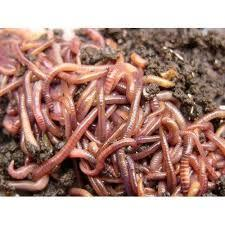Insects: (28, 107, 98, 183), (44, 63, 115, 107), (81, 137, 139, 176), (15, 86, 42, 154), (2, 157, 50, 194), (11, 40, 47, 81), (159, 119, 178, 194), (49, 65, 110, 86), (126, 74, 144, 137), (115, 148, 134, 199), (190, 108, 225, 131), (202, 128, 225, 161), (180, 135, 192, 193), (136, 115, 160, 138), (70, 181, 94, 203), (84, 175, 105, 199), (134, 174, 150, 198)
